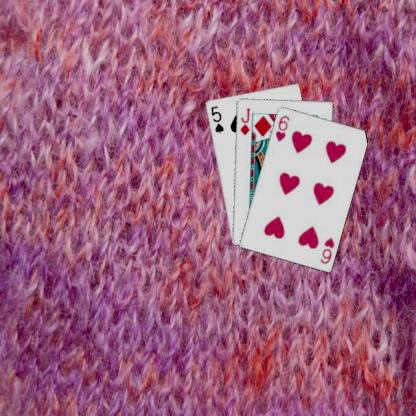5S: (208, 103, 225, 134)
6H: (272, 112, 291, 143), (318, 235, 336, 265)
JD: (237, 105, 252, 137)
